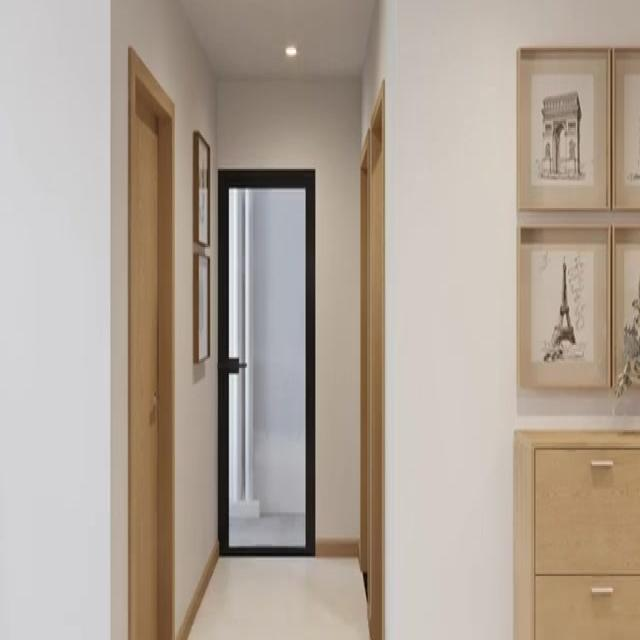door: (217, 167, 315, 555), (130, 44, 171, 640)
obstacle: (512, 427, 639, 638)
